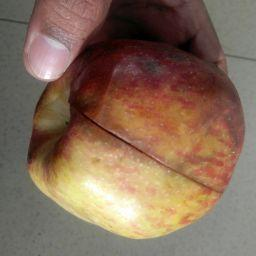apple: (14, 20, 256, 243)
